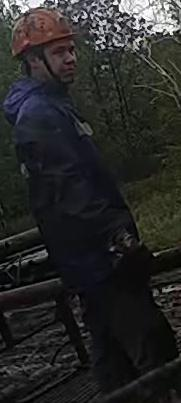gloves: (100, 225, 155, 293)
helmet: (10, 6, 77, 58)
vest: (10, 76, 140, 287)
